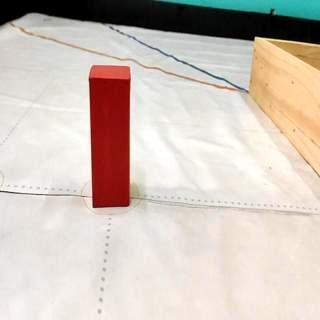redbox: (89, 63, 131, 208)
